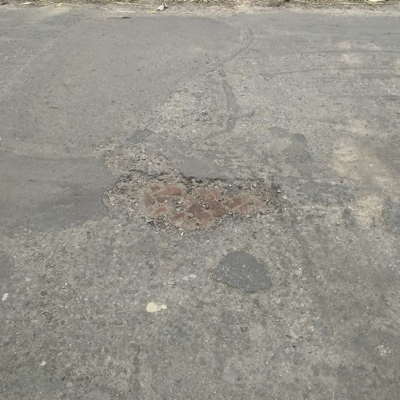pothole: (100, 170, 283, 237)
